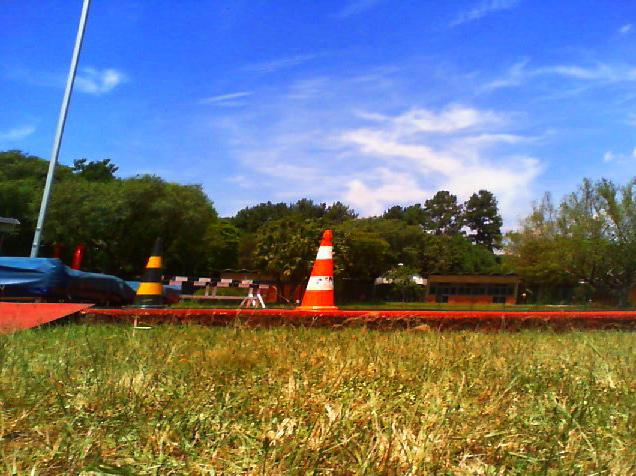0 cone: (295, 230, 341, 312), (125, 238, 168, 308)
